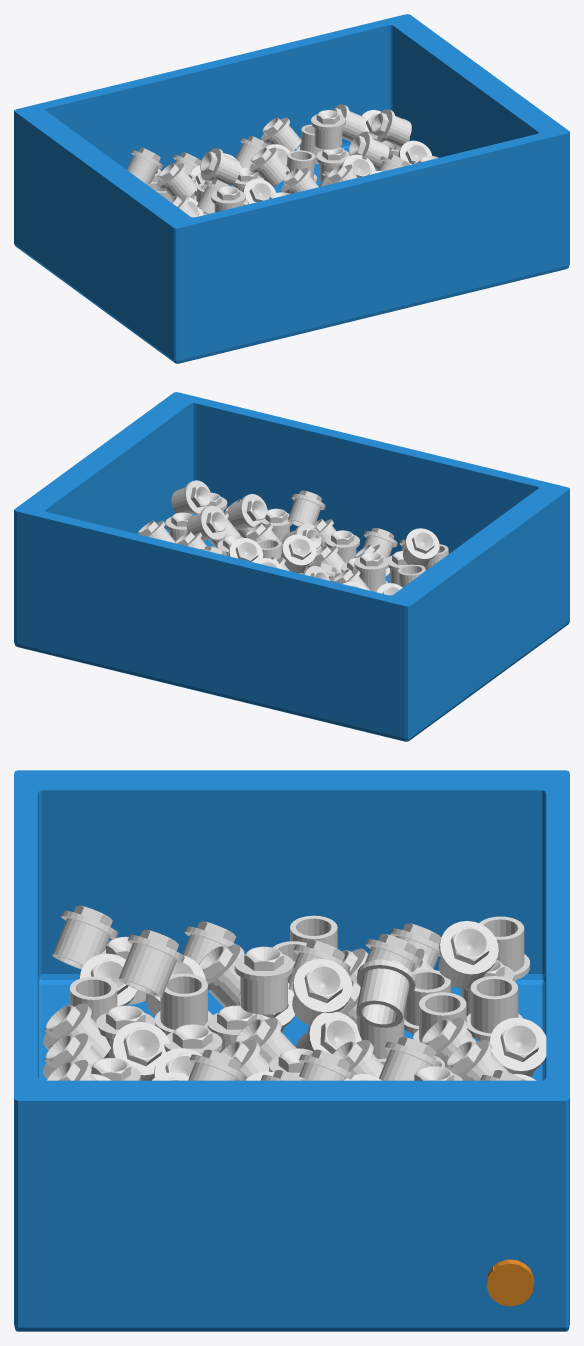
Rendered from Bin_with_plug_Blue.glb.
3 views of the same model, one above another, from view 1: azimuth 30°, elevation 25°; view 2: azimuth 150°, elevation 25°; view 3: azimuth 270°, elevation 25° (orthographic). The views are drawn at different scales.
Parts seen in each view (by area): view 1: Bin, Plug.048, Plug.080, Plug.086, Plug.074, Plug.068, Plug.073, Plug.079, Plug.067, Plug.012, Plug.071, Plug.085 (+8 smaller); view 2: Bin, Plug.069, Plug.077, Plug.076, Plug.078, Plug.070, Plug.012, Plug.083, Plug.034, Plug.072, Plug.082, Plug.001 (+3 smaller); view 3: Bin, Plug.080, Plug.012, Plug.067, Plug.058, Plug.069, Plug.081, Plug.045, Plug.036, Plug.038, Plug.055, Plug.057 (+30 smaller).
Boxes of the visible parts, box(x1,y1,x2,y2) form: Bin: box(14, 14, 569, 363); Plug.048: box(311, 110, 345, 149); Plug.080: box(200, 148, 240, 185); Plug.086: box(371, 109, 411, 147); Plug.074: box(249, 147, 289, 186); Plug.068: box(156, 163, 197, 197); Plug.073: box(261, 117, 301, 151); Plug.079: box(348, 132, 389, 170); Plug.067: box(126, 147, 163, 185); Plug.012: box(211, 186, 245, 212); Plug.071: box(281, 168, 318, 194); Plug.085: box(332, 104, 365, 141); Bin: box(14, 392, 569, 741); Plug.069: box(403, 528, 439, 566); Plug.077: box(227, 494, 267, 530); Plug.076: box(186, 505, 227, 540); Plug.078: box(171, 480, 212, 514); Plug.070: box(280, 534, 316, 573); Plug.012: box(354, 552, 388, 591); Plug.083: box(287, 490, 325, 526); Plug.034: box(325, 530, 359, 562); Plug.072: box(228, 538, 263, 562); Plug.082: box(363, 528, 397, 558); Plug.001: box(260, 508, 292, 542); Bin: box(14, 770, 569, 1331); Plug.080: box(356, 958, 416, 1027); Plug.012: box(234, 946, 293, 1014); Plug.067: box(438, 921, 498, 988); Plug.058: box(292, 959, 352, 1025); Plug.069: box(118, 929, 184, 997); Plug.081: box(52, 905, 118, 969); Plug.045: box(489, 1017, 546, 1077); Plug.036: box(466, 976, 522, 1041); Plug.038: box(154, 973, 212, 1035); Plug.055: box(112, 1022, 169, 1080); Plug.057: box(199, 944, 244, 1007).
Size of the model in its own units: 0.399 by 0.13 by 0.28.
